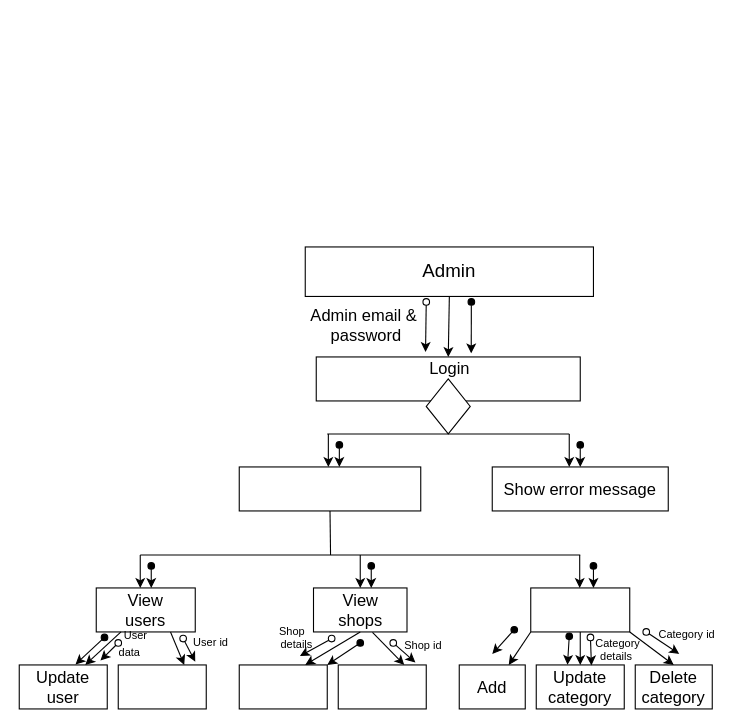
Image size: 743x728. Some labels were removed from this diagram. Here are the shapes that lost their labels. From the top down, the centre of each, then its label:
At point 329,488: "Admin dash board".
At point 580,609: "View categories".
At point 161,686: "Delete user".
At point 282,686: "Update shop".
At point 381,686: "Delete shop".
